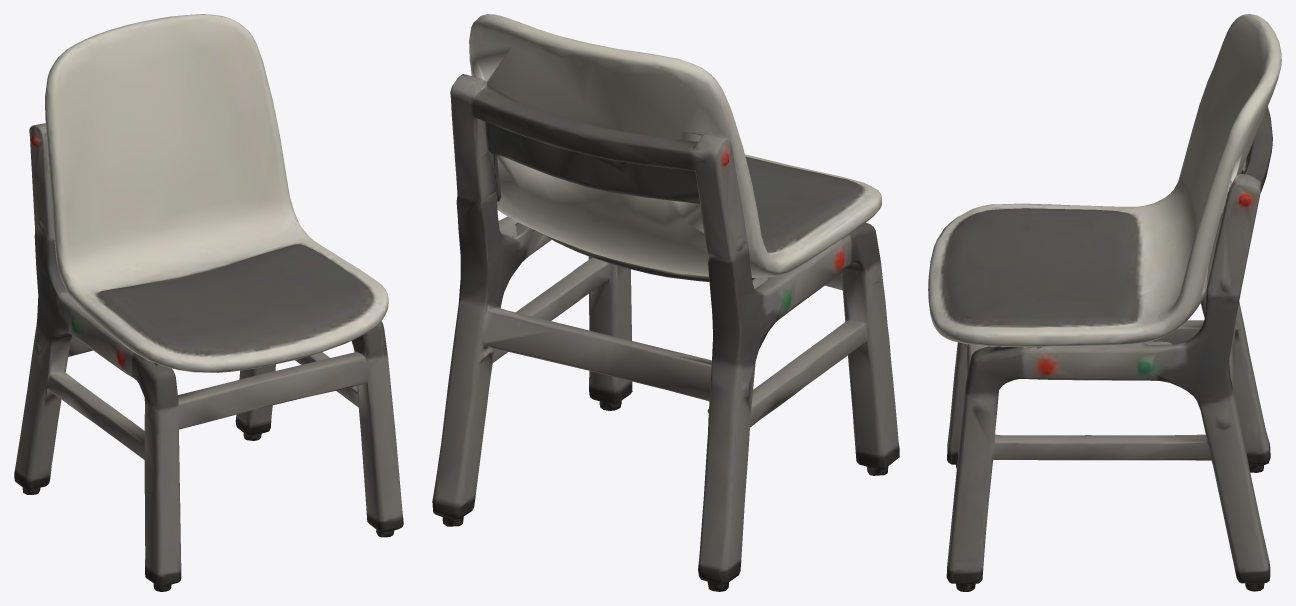
The model's file is dining_chair.glb.
3 renders of one model, left to right at view 1: azimuth 30°, elevation 25°; view 2: azimuth 150°, elevation 25°; view 3: azimuth 270°, elevation 25°, orthographic. The views are drawn at different scales.
Visible parts, largest first — view 1: geometry_0; view 2: geometry_0; view 3: geometry_0.
Boxes of the visible parts, x1,y1,x2,y2 form: geometry_0: (14, 14, 403, 591); geometry_0: (432, 14, 899, 591); geometry_0: (928, 14, 1281, 591).
Bounding box in the file's own units: 0.5986 × 1 × 0.6748.
1 material, 1 textured.
